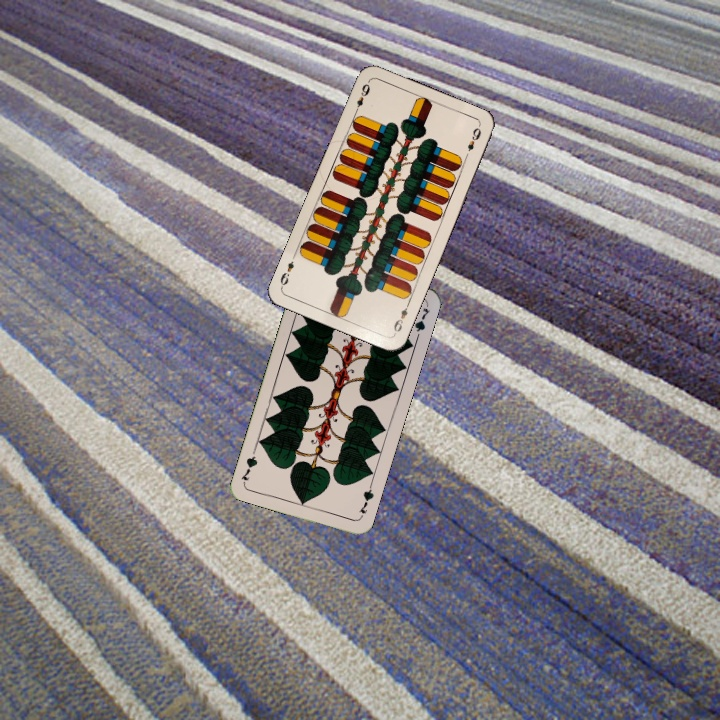E9: (389, 298, 412, 337), (350, 77, 373, 116)
G7: (355, 481, 376, 516)
